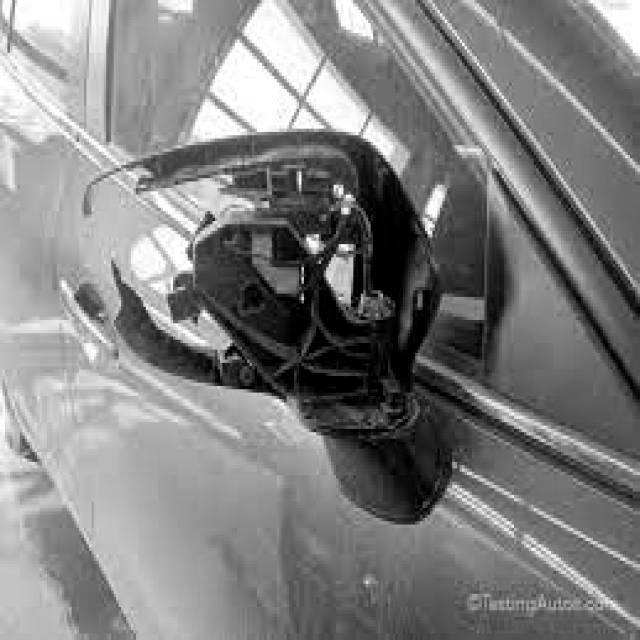Sidemirror-Damage: (79, 152, 442, 406)
